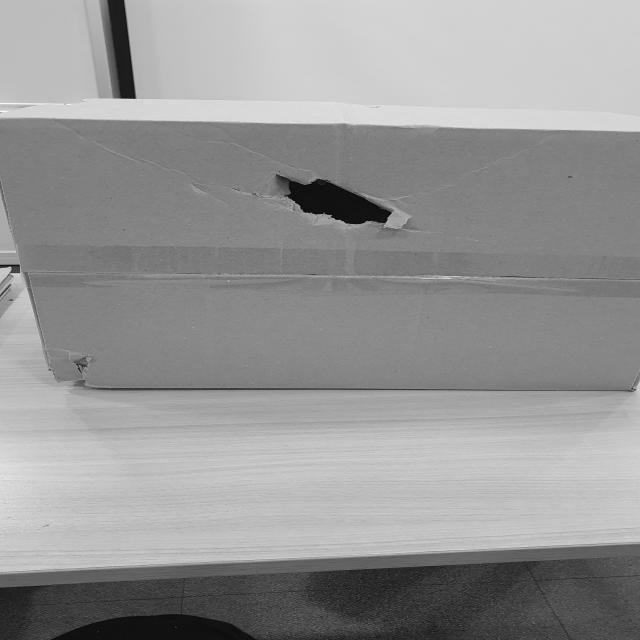hole: (250, 160, 416, 234)
